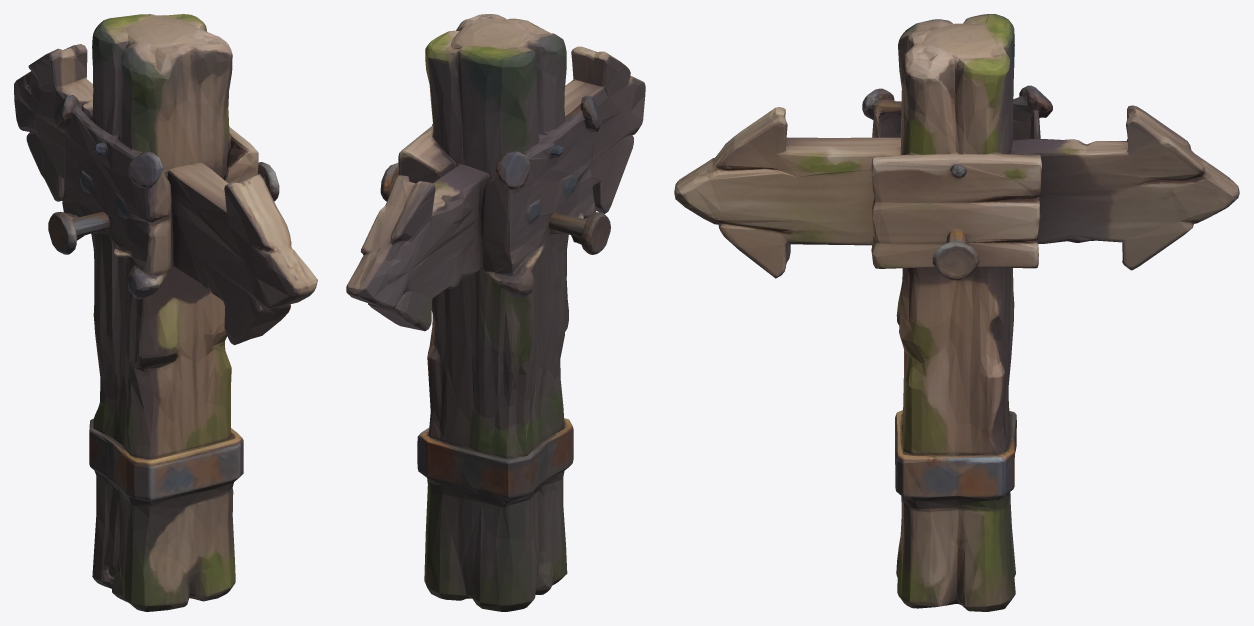
The model's file is sign.glb.
3 renders of one model, left to right at view 1: azimuth 30°, elevation 25°; view 2: azimuth 150°, elevation 25°; view 3: azimuth 270°, elevation 25°, orthographic.
Visible parts, largest first — view 1: world; view 2: world; view 3: world.
Part boxes in pixels (x1,y1,x2,y2): world: [14, 14, 317, 611]; world: [346, 14, 645, 611]; world: [674, 14, 1239, 611].
Bounding box in the file's own units: 0.3968 × 0.9987 × 0.9214.
1 material, 1 textured.
